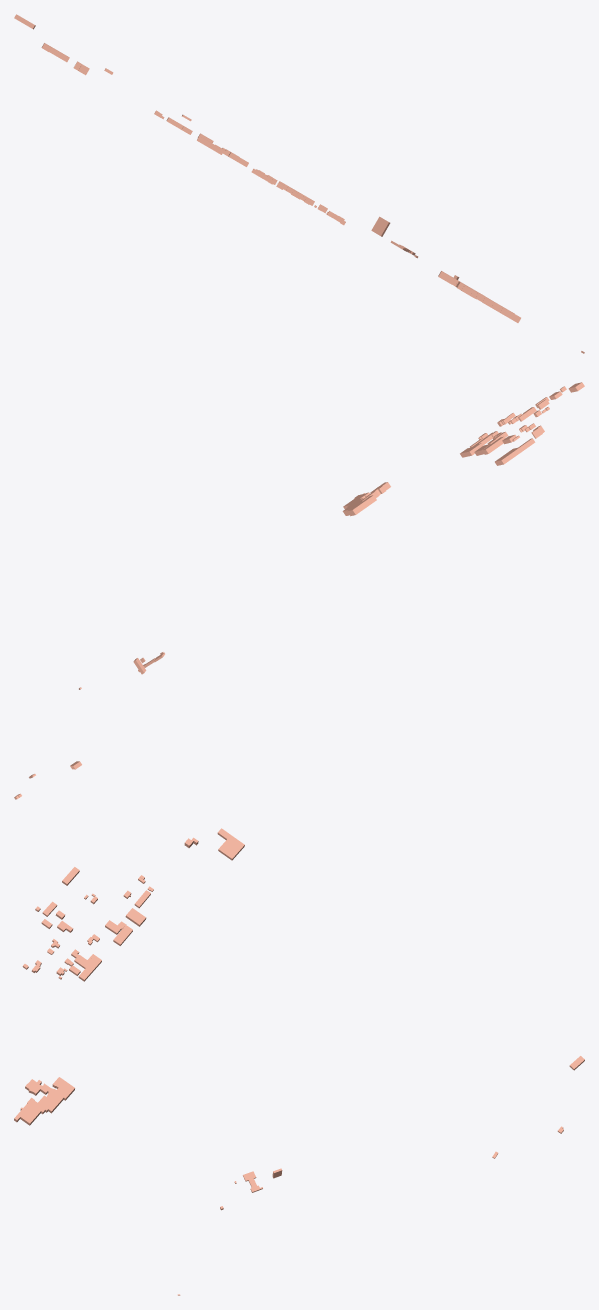
The picture shows the model from 3 angles, top to bottom: view 1: azimuth 30°, elevation 25°; view 2: azimuth 150°, elevation 25°; view 3: azimuth 270°, elevation 25°; orthographic projection. The views are drawn at different scales.
Bounding box in the file's own units: 847 × 650 × 1153.
